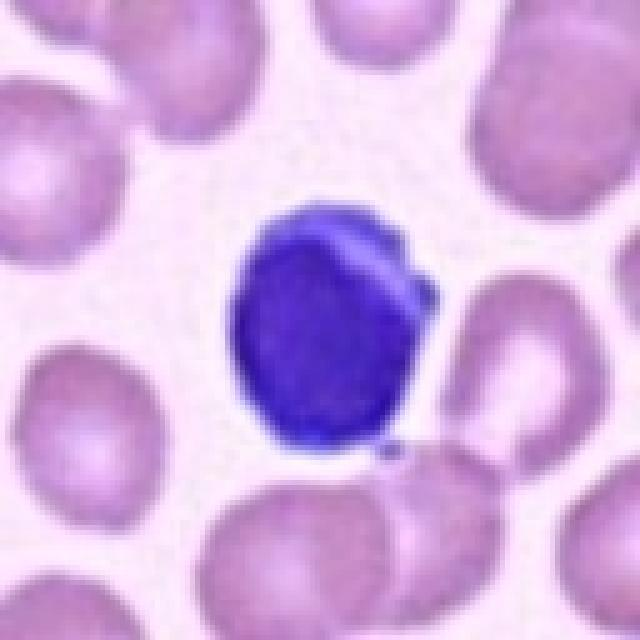lympho: (222, 190, 443, 460)
